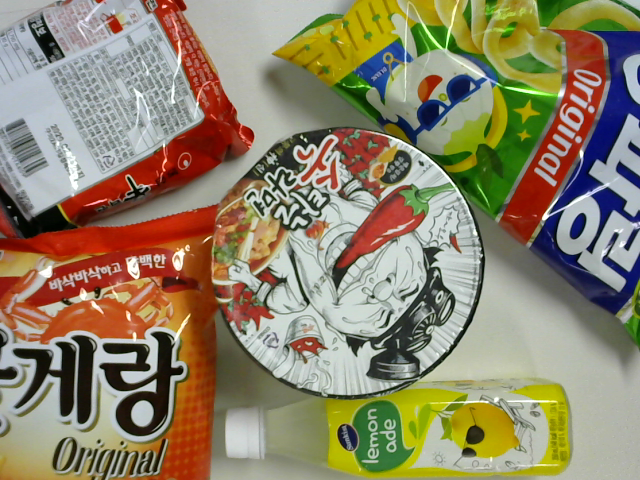Crabrang: (1, 211, 238, 476)
HeJangsock: (209, 127, 482, 391)
Oninon_Ring: (295, 6, 640, 329)
Sinramen: (1, 1, 240, 233)
Sunkist_Lemonaid_Pet: (204, 366, 584, 480)
